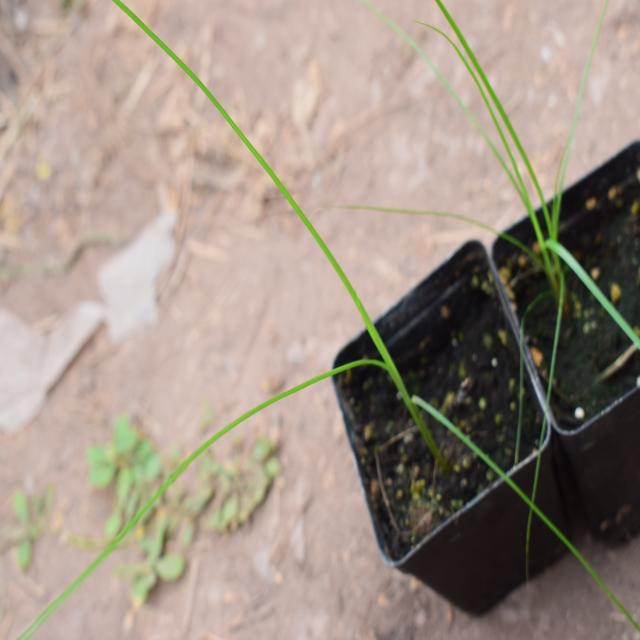sedge: (54, 32, 538, 564)
